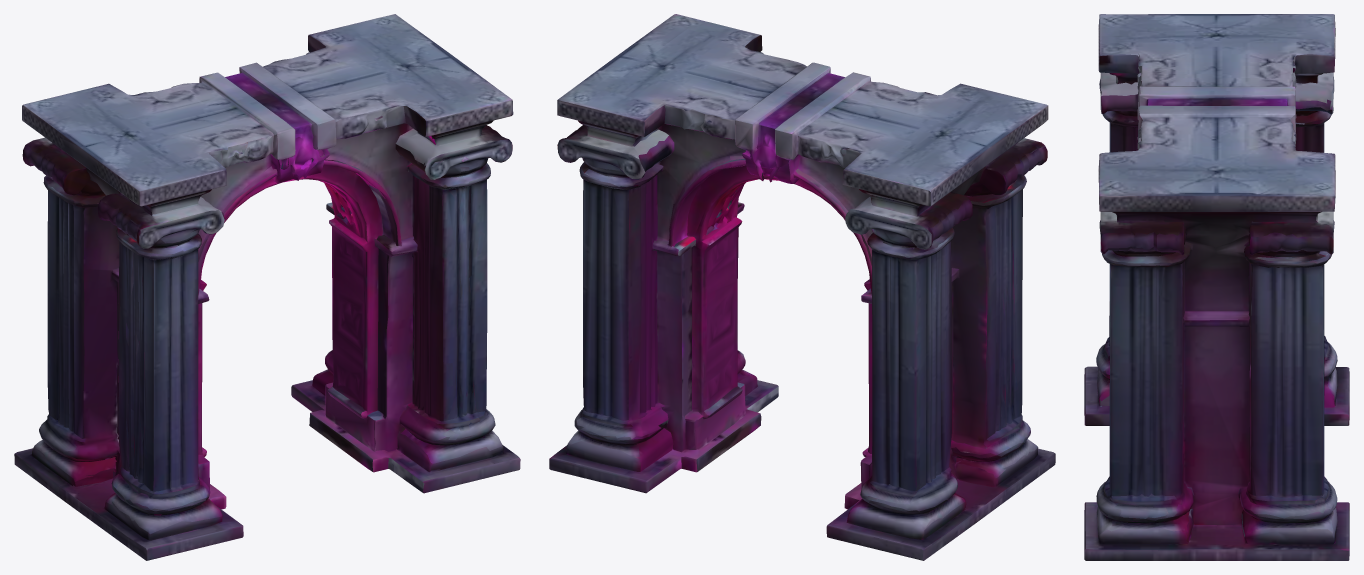
File: support-column-generated-2026-05-17T18-31-11-487Z.low.glb
The picture shows the model from 3 angles, left to right: view 1: azimuth 30°, elevation 25°; view 2: azimuth 150°, elevation 25°; view 3: azimuth 270°, elevation 25°; orthographic projection.
Visible parts, largest first — view 1: temp_mesh.ply; view 2: temp_mesh.ply; view 3: temp_mesh.ply.
Part boxes in pixels (x1,y1,x2,y2): temp_mesh.ply: (14,14,520,560); temp_mesh.ply: (549,14,1055,560); temp_mesh.ply: (1084,14,1349,560).
Size of the model in its own units: 1.97 by 1.86 by 1.21.
1 material, 1 textured.
